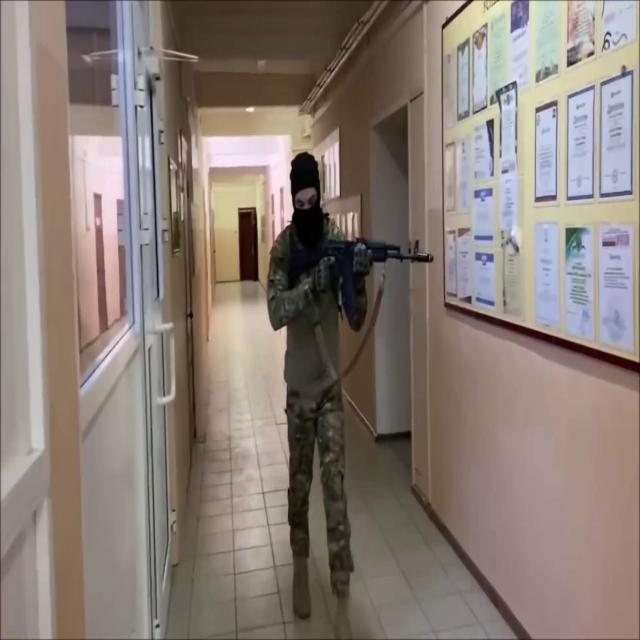pistol: (298, 231, 436, 318)
